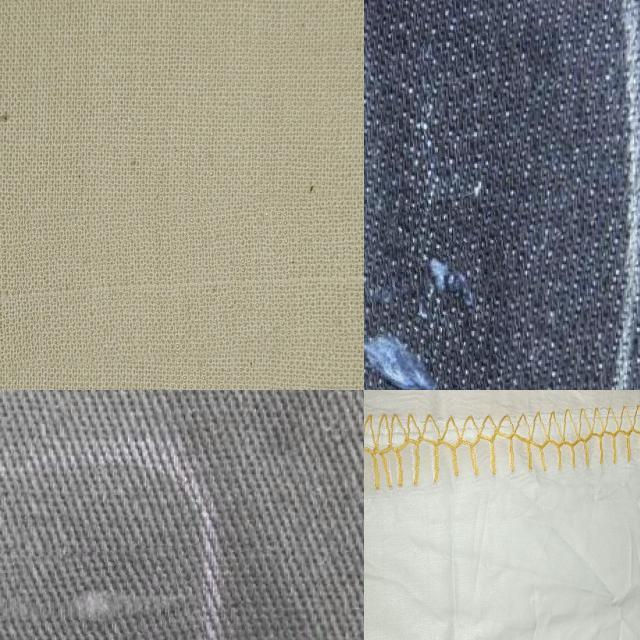Stitch: (364, 390, 640, 491)
Thread_other: (0, 197, 364, 372), (364, 208, 522, 390), (14, 548, 202, 640)
